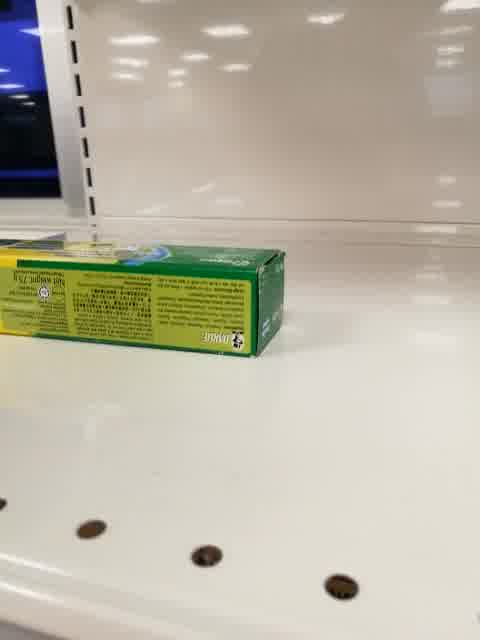toothpaste: (1, 237, 286, 360)
